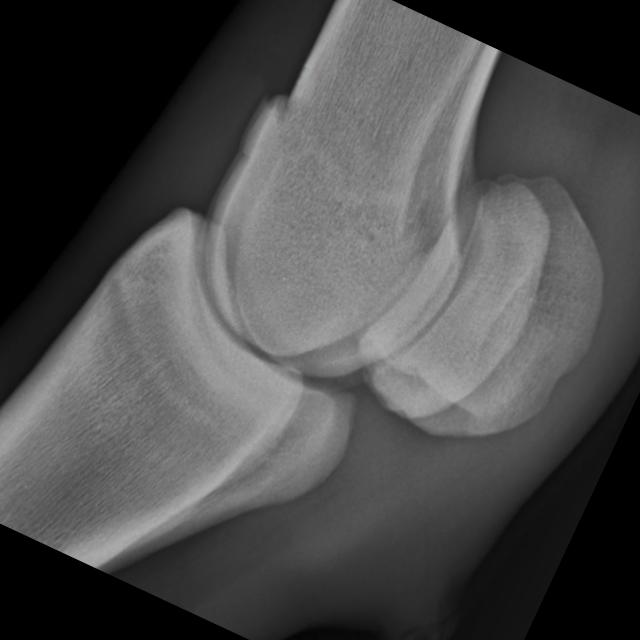bone remodeling: (152, 31, 359, 255)
